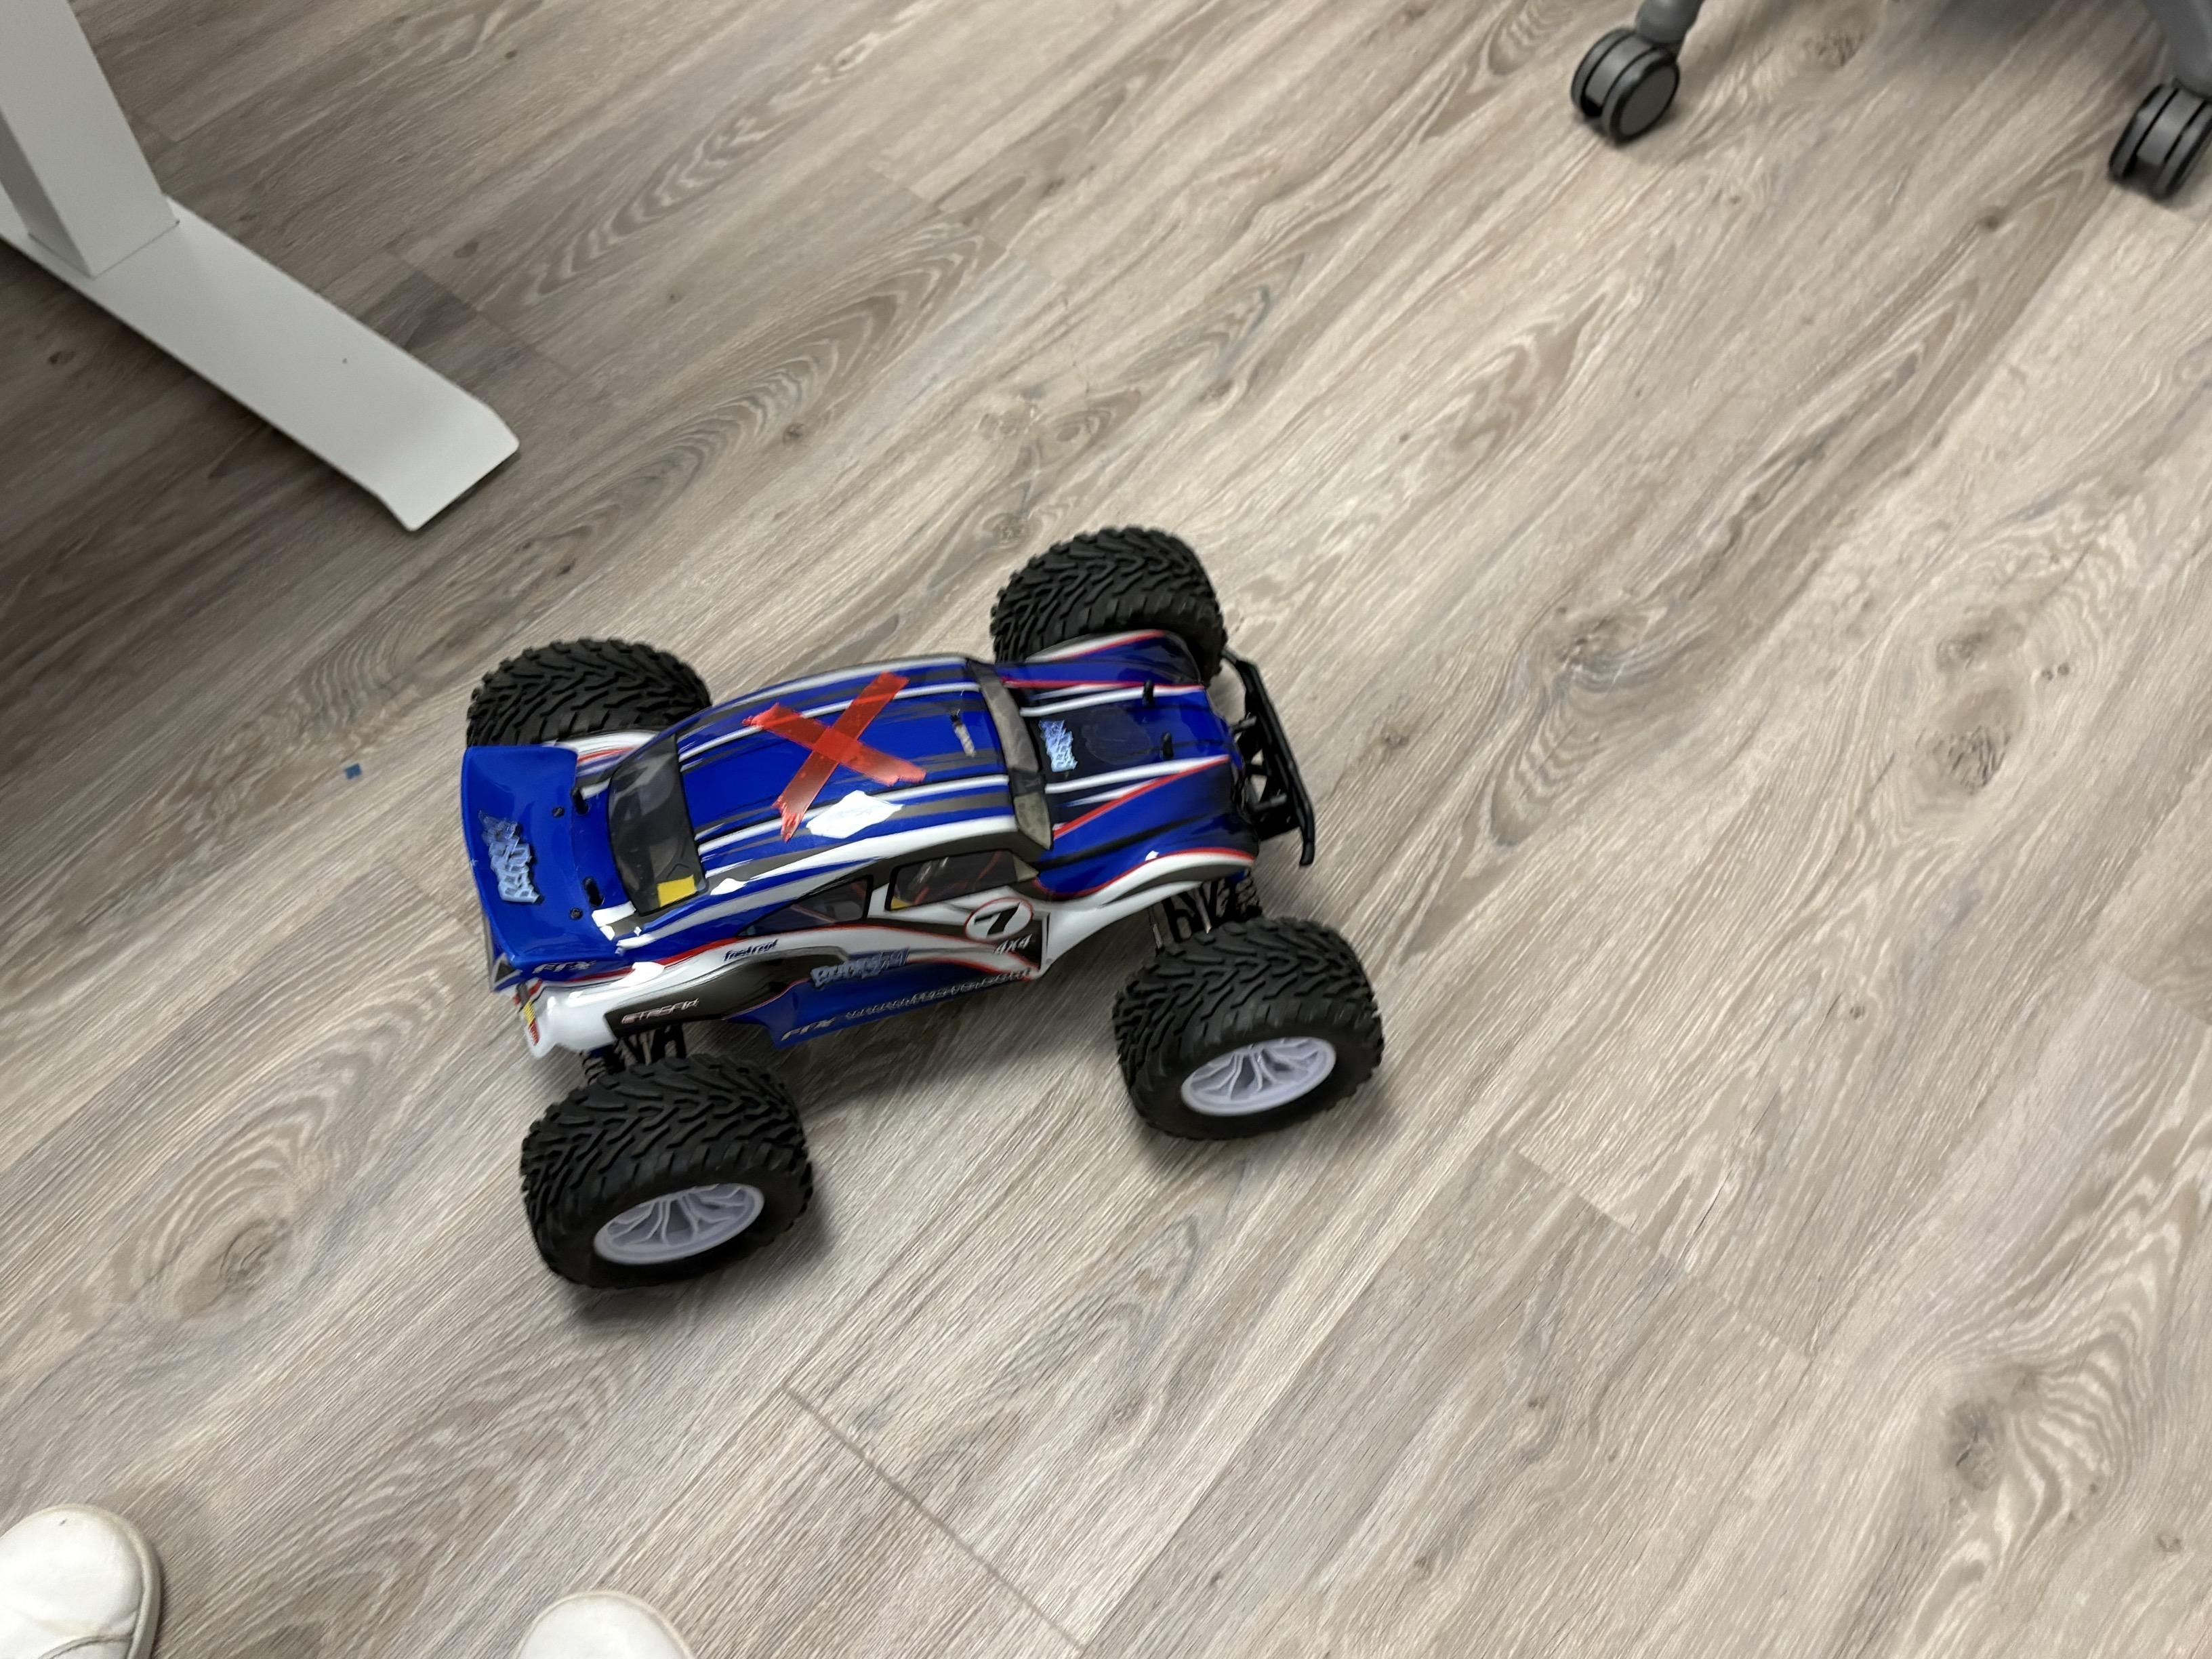Car: (406, 486, 1571, 1373)
